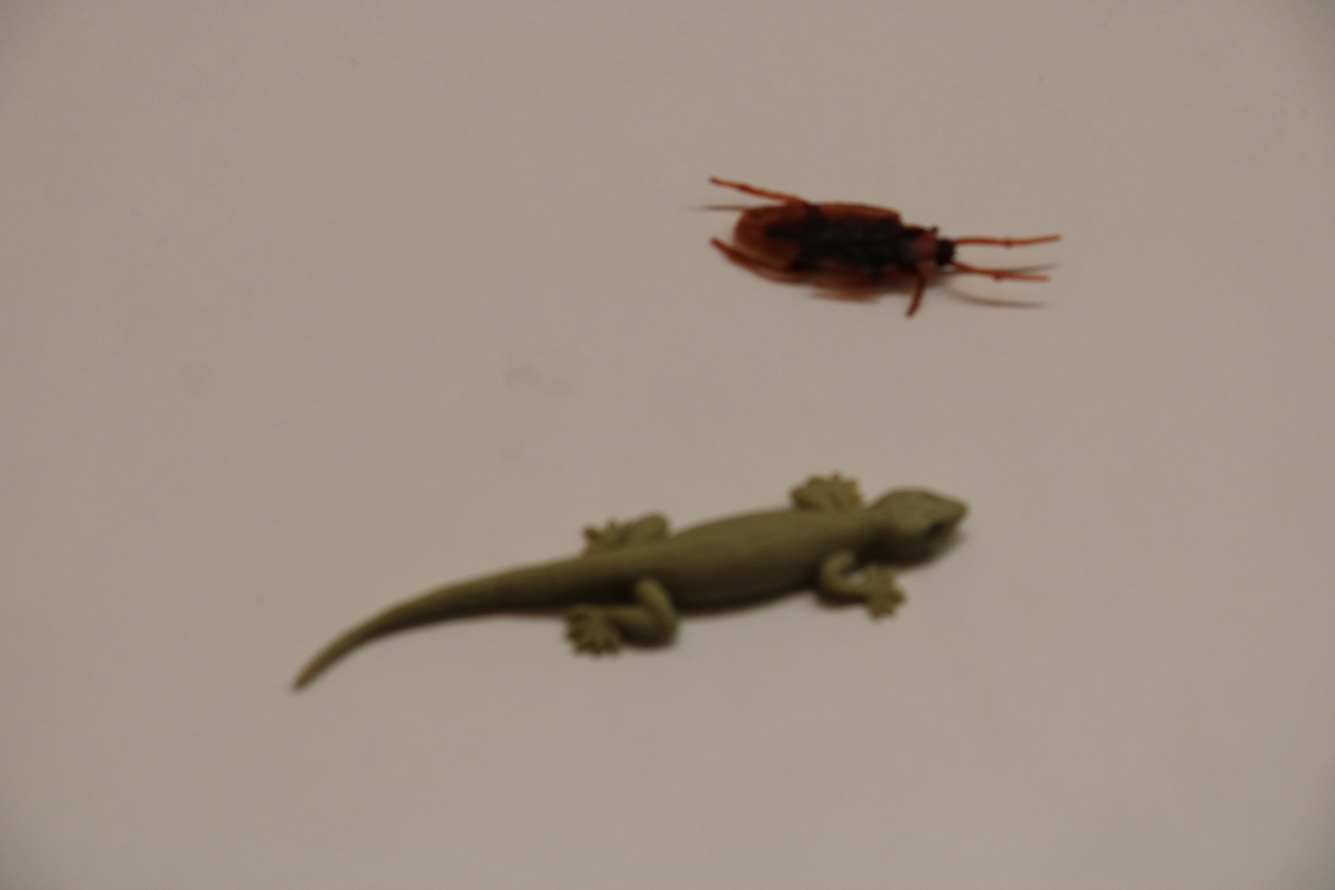cockroach: (692, 147, 1062, 326)
lizard: (283, 463, 978, 694)
